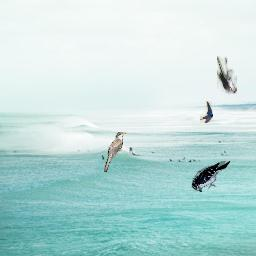Cuckoo: (104, 132, 126, 172), (217, 56, 237, 95)
Swallow: (200, 101, 213, 123)
Woodpecker: (191, 161, 231, 192)
